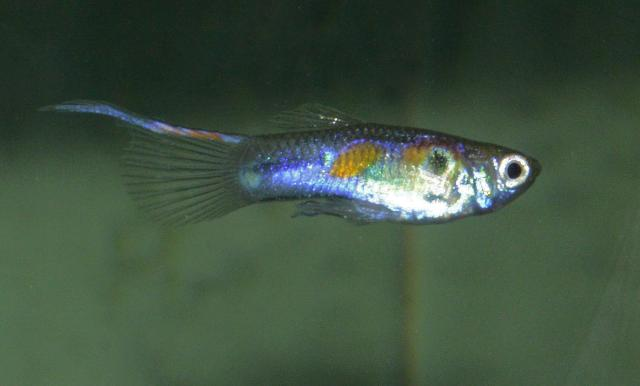Mulut: (492, 144, 556, 200)
Sirip Anal: (275, 185, 391, 235)
Sirip Dada: (382, 148, 462, 208)
Sirip Ekor: (30, 76, 254, 254)
Sirip Punggung: (266, 90, 372, 138)
